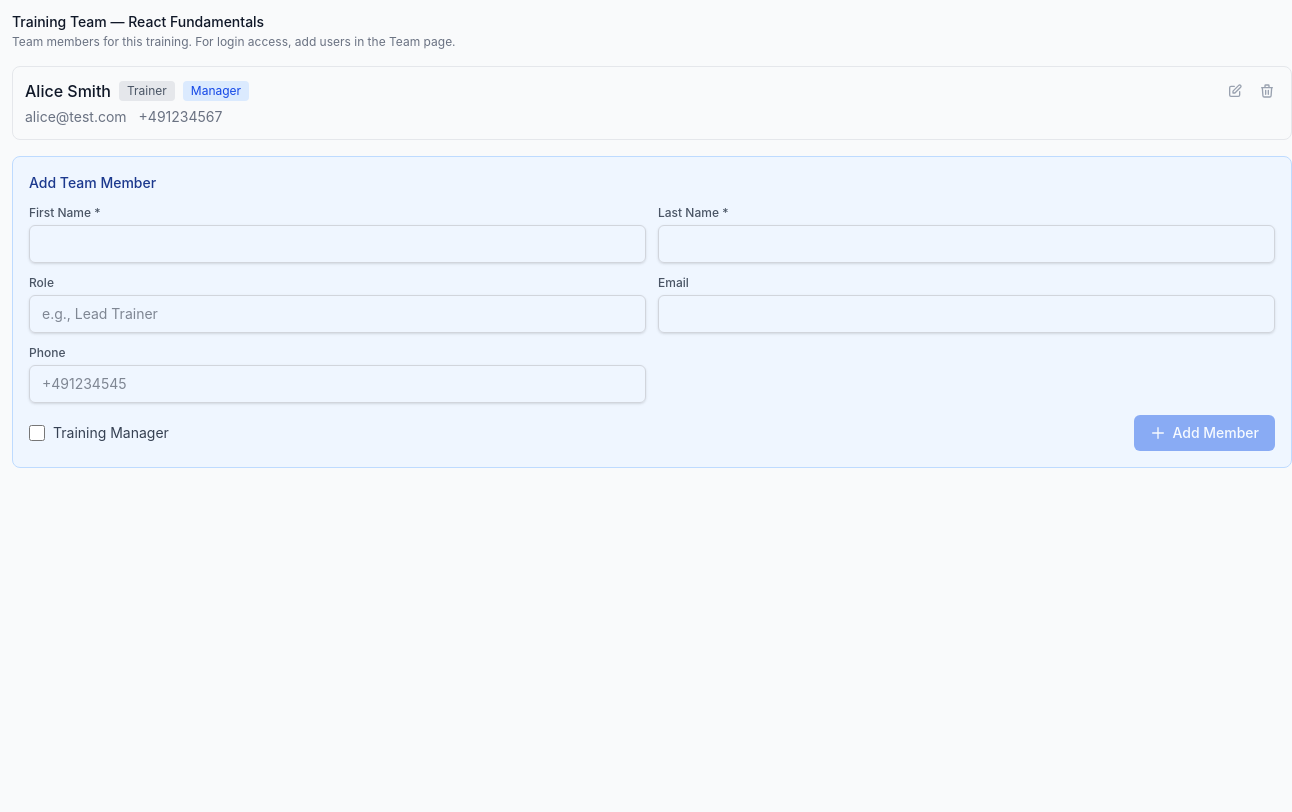
TrainingTeamTab › edit team member › pre-fills edit form with member data
Click the button titled "Edit". click: [1235, 91]
box: [1223,79,1247,103]
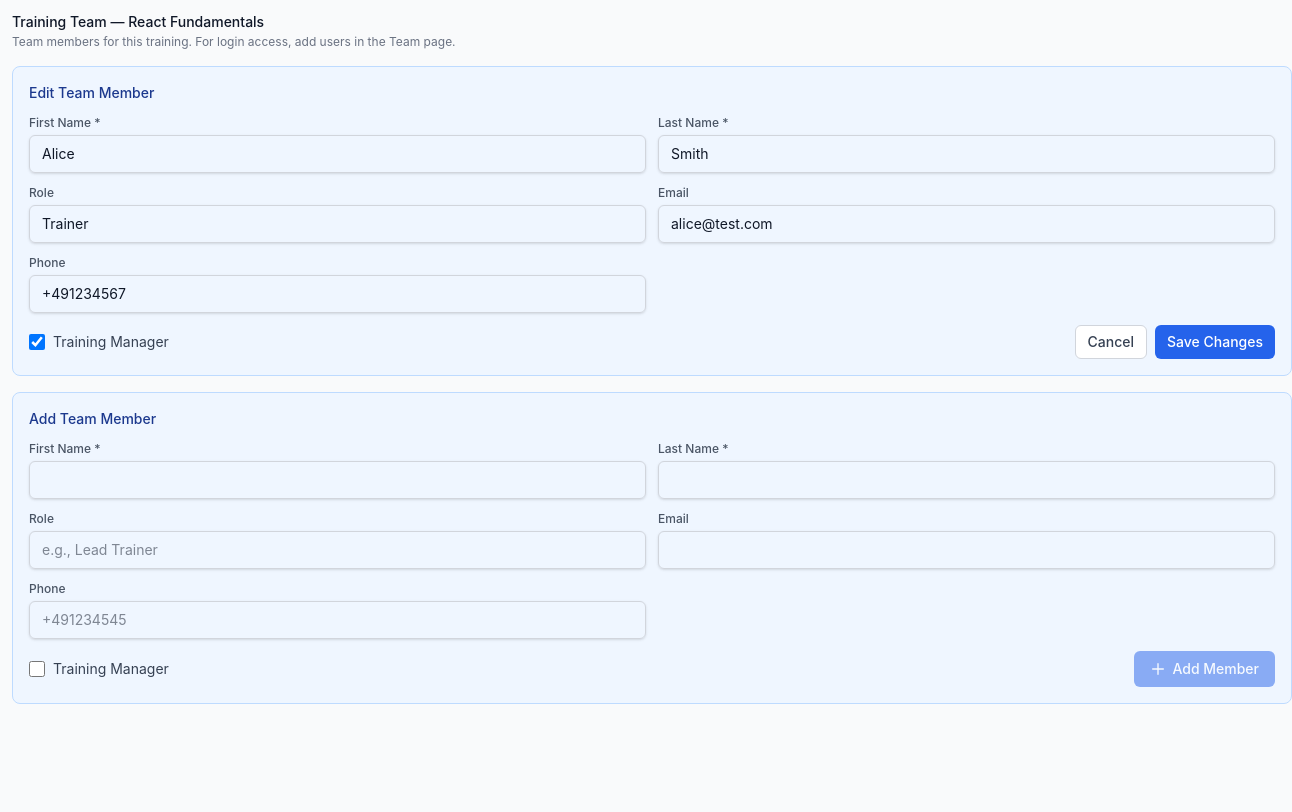
Now the 1st field showing "Alice" is shown, box [29,135,646,173]
Now the 2nd field showing "Smith" is shown, box [658,135,1275,173]
Now the 4th field showing "alice@test.com" is shown, box [658,205,1275,243]
